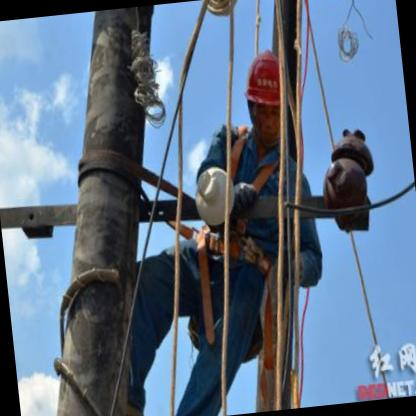bee: (238, 40, 296, 150)
